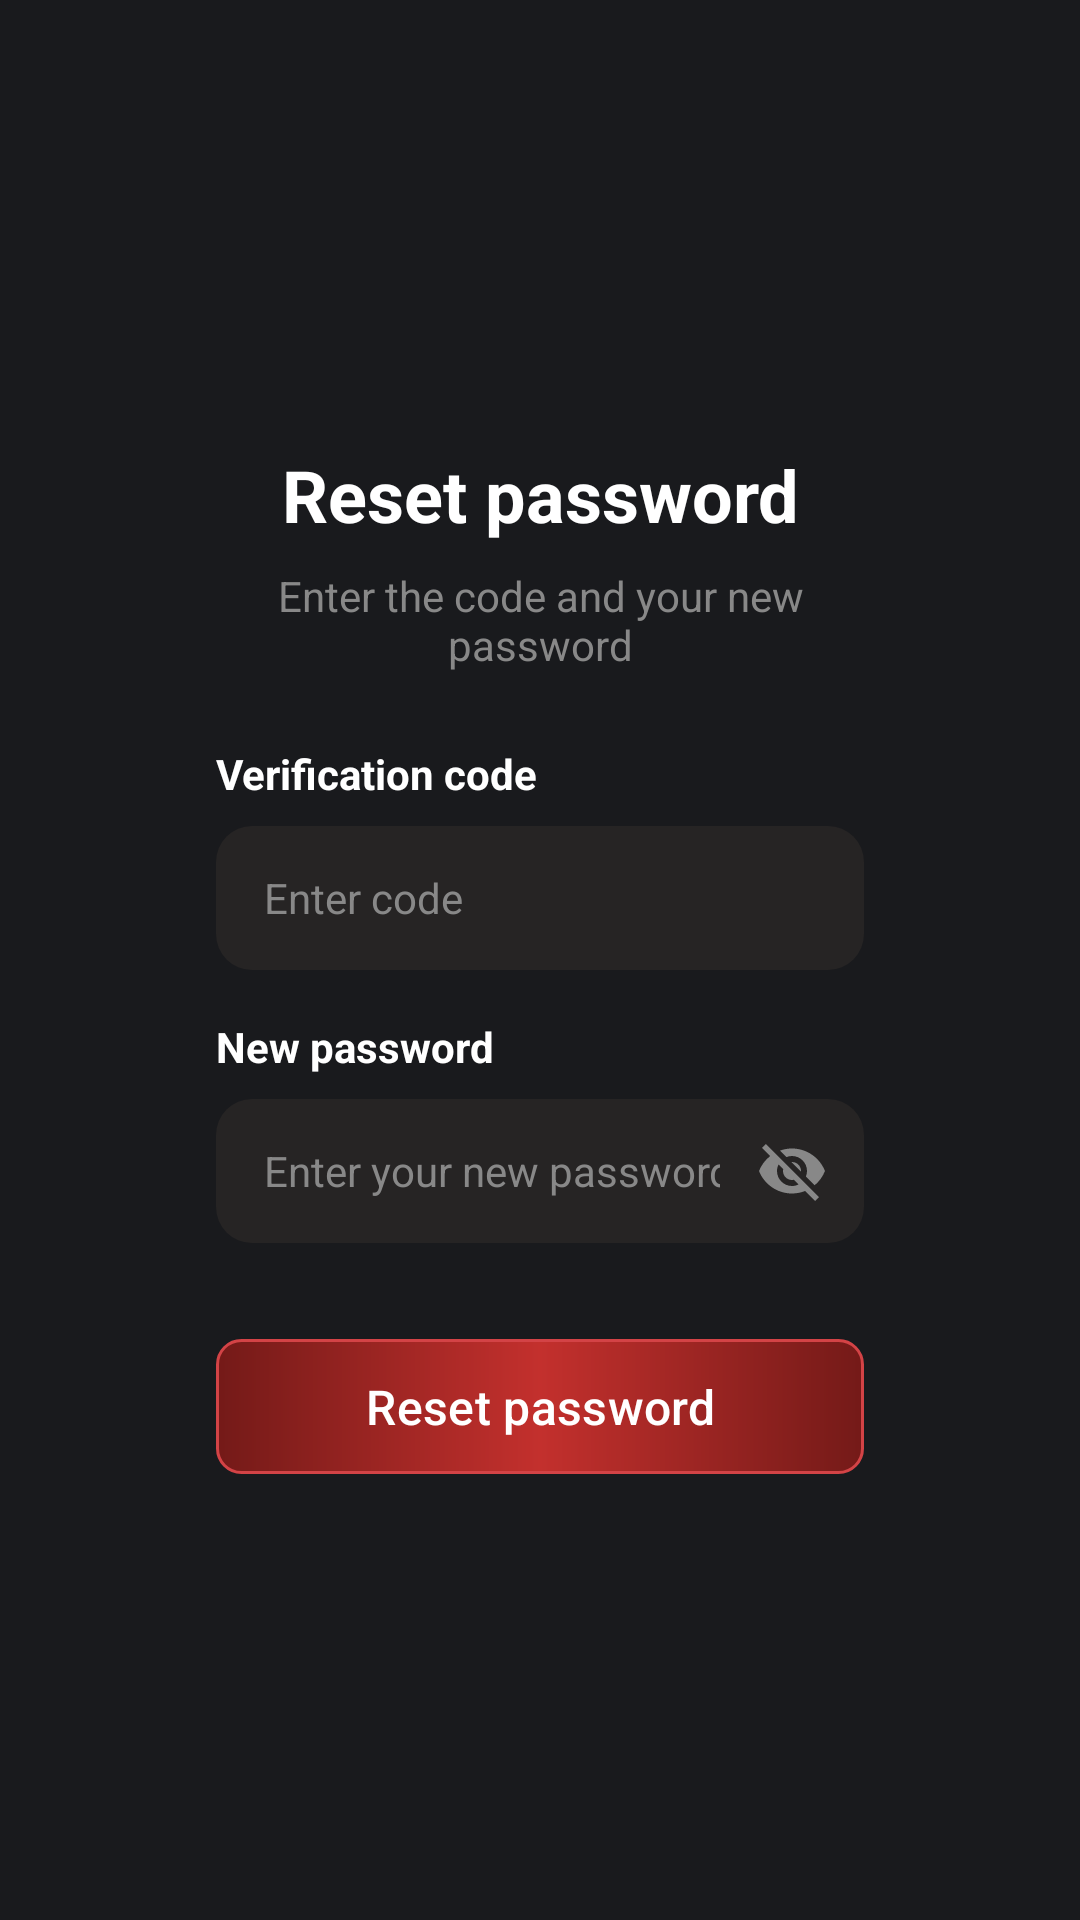

Icon bounding boxes for this 1080px x 1920px phone screenshot, format [x1=x1, y1=y1, x2=x2, y2=y2]:
visibility off: [x1=759, y1=1144, x2=825, y2=1201]
